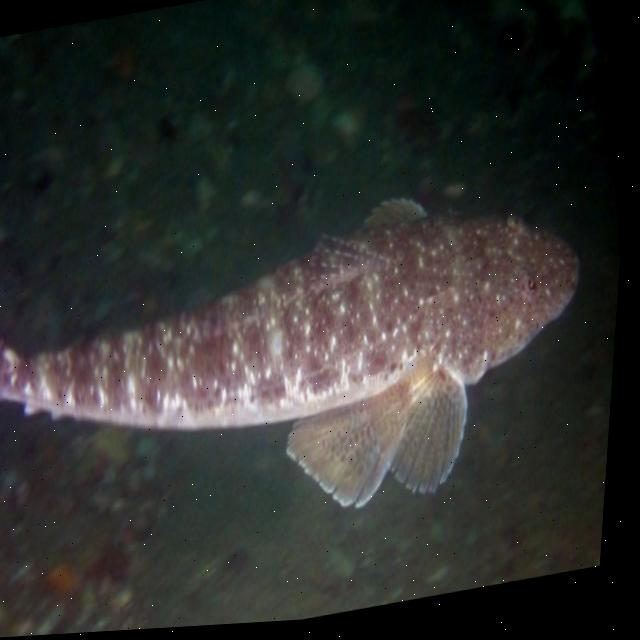Flathead: (0, 150, 622, 583)
